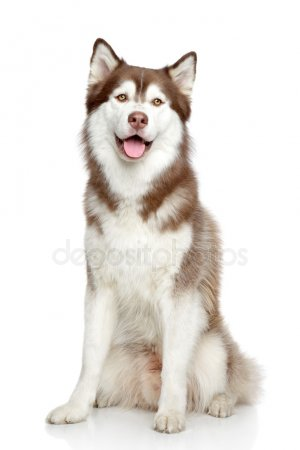husky: (63, 23, 229, 255)
